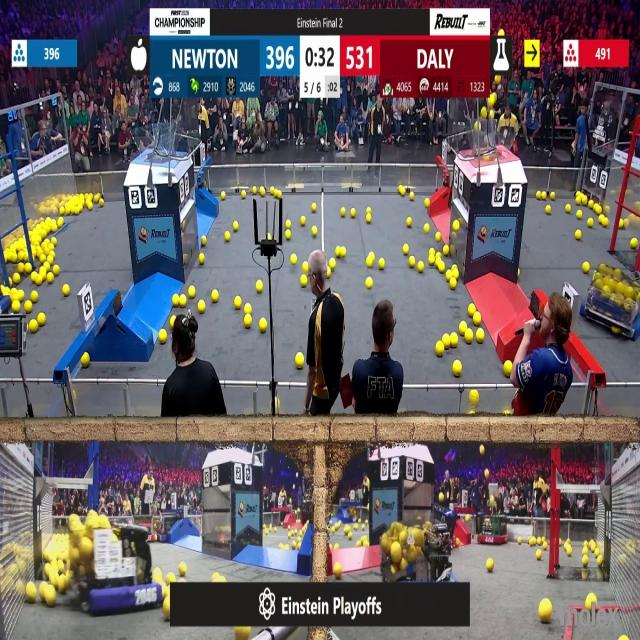ball_airborne: (489, 94, 497, 108), (512, 114, 518, 126), (482, 107, 488, 118), (480, 446, 486, 457), (490, 496, 496, 506), (499, 116, 505, 125), (473, 121, 479, 129), (489, 110, 494, 119), (495, 75, 500, 84), (486, 472, 490, 480)
ball_ground: (538, 600, 550, 622), (44, 589, 55, 607), (164, 598, 172, 619), (28, 586, 37, 604), (58, 579, 68, 595), (295, 353, 303, 368), (503, 360, 511, 375), (81, 352, 89, 367), (454, 360, 462, 375), (335, 563, 343, 578), (435, 342, 443, 357), (179, 562, 187, 576), (29, 320, 38, 332), (587, 596, 594, 611), (160, 331, 168, 344), (486, 559, 494, 572), (465, 332, 473, 345), (477, 331, 485, 344), (468, 390, 476, 403), (259, 318, 266, 332), (235, 296, 243, 308), (244, 316, 252, 328), (212, 289, 219, 302), (459, 321, 466, 334), (472, 313, 479, 326), (25, 302, 33, 313), (172, 294, 180, 305), (11, 302, 19, 313), (63, 284, 70, 296), (451, 335, 458, 347), (379, 257, 386, 269), (199, 302, 206, 314), (255, 281, 262, 293), (179, 294, 186, 306), (467, 305, 474, 317), (38, 314, 45, 326), (31, 290, 38, 302), (365, 255, 372, 267), (444, 335, 452, 345), (341, 247, 349, 257), (188, 286, 195, 297), (54, 266, 61, 277), (244, 305, 252, 314), (452, 221, 460, 230), (631, 239, 638, 249), (290, 254, 297, 264), (46, 274, 53, 284), (299, 276, 306, 286), (439, 264, 446, 274), (218, 572, 225, 582), (595, 205, 602, 215), (46, 253, 53, 263), (453, 270, 460, 280), (170, 573, 177, 583), (73, 205, 80, 215), (365, 278, 371, 289), (329, 257, 335, 268), (583, 556, 589, 567), (13, 274, 19, 285), (566, 547, 572, 558), (40, 267, 48, 275), (428, 255, 435, 264), (445, 272, 452, 281), (584, 264, 590, 274), (402, 244, 408, 254), (574, 231, 580, 241), (303, 264, 309, 274), (451, 279, 457, 289), (410, 256, 416, 266), (407, 216, 413, 226), (602, 216, 608, 226), (312, 226, 318, 236), (32, 272, 37, 284), (17, 290, 23, 300), (36, 276, 42, 286), (40, 254, 46, 264), (284, 232, 291, 240), (275, 189, 282, 197), (540, 191, 547, 199), (170, 317, 175, 328), (59, 217, 64, 228), (444, 246, 450, 255), (365, 214, 371, 223), (259, 187, 265, 196), (435, 255, 441, 264), (620, 219, 626, 228), (596, 557, 602, 566), (61, 207, 67, 216), (398, 186, 404, 195), (17, 264, 23, 273), (419, 264, 424, 274), (200, 254, 205, 264), (589, 218, 594, 228), (337, 247, 342, 257), (576, 210, 581, 220), (351, 208, 356, 218), (27, 264, 32, 274), (544, 206, 550, 214), (341, 208, 347, 216), (566, 205, 572, 213), (551, 191, 557, 199), (286, 220, 292, 228), (348, 532, 354, 540), (50, 238, 56, 246), (529, 537, 535, 545), (435, 233, 440, 242), (424, 223, 429, 232), (234, 221, 239, 230), (299, 216, 304, 225), (224, 233, 229, 242), (202, 237, 207, 246), (536, 551, 541, 560), (96, 192, 101, 201), (428, 248, 434, 255), (588, 202, 594, 209), (517, 537, 523, 544), (362, 540, 368, 547), (100, 200, 105, 208), (220, 191, 225, 199), (312, 204, 317, 212), (89, 203, 94, 211), (326, 271, 331, 279), (575, 198, 580, 206), (582, 548, 587, 556), (252, 186, 257, 194), (502, 411, 508, 417), (365, 208, 371, 214), (542, 542, 547, 549), (356, 540, 361, 547), (291, 541, 296, 548), (425, 200, 429, 208), (411, 191, 415, 199), (536, 190, 540, 198), (269, 234, 273, 242), (456, 538, 460, 546), (336, 542, 341, 548), (242, 190, 246, 197), (622, 636, 629, 640), (280, 543, 284, 549), (354, 524, 358, 530)
goal: (466, 122, 521, 160), (131, 129, 188, 160)
robot_blue: (83, 517, 164, 612), (379, 516, 457, 602), (584, 264, 640, 339), (153, 514, 184, 543)
robot_red: (604, 514, 640, 630), (477, 516, 510, 544)
